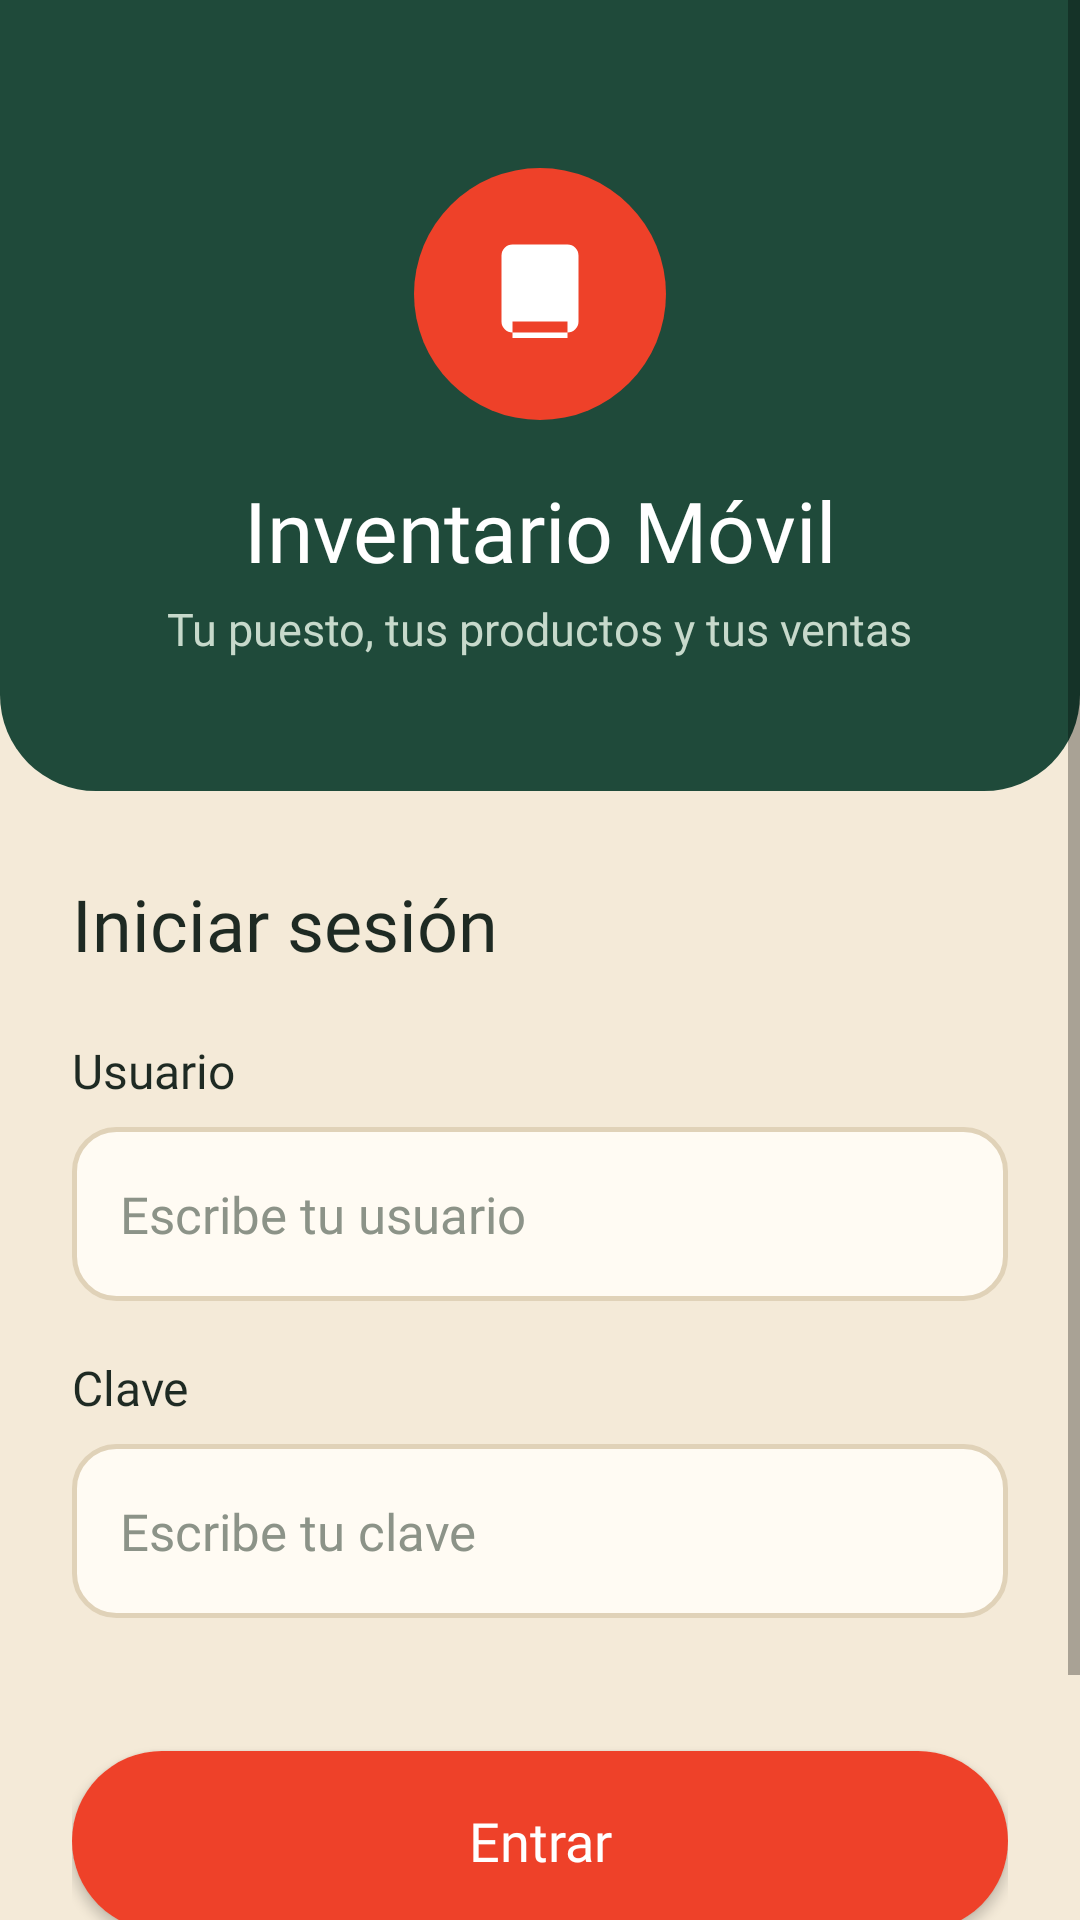

Named icons in this screenshot (1080 x 1920) and their centers, (x,y):
inventory: (540,291)
